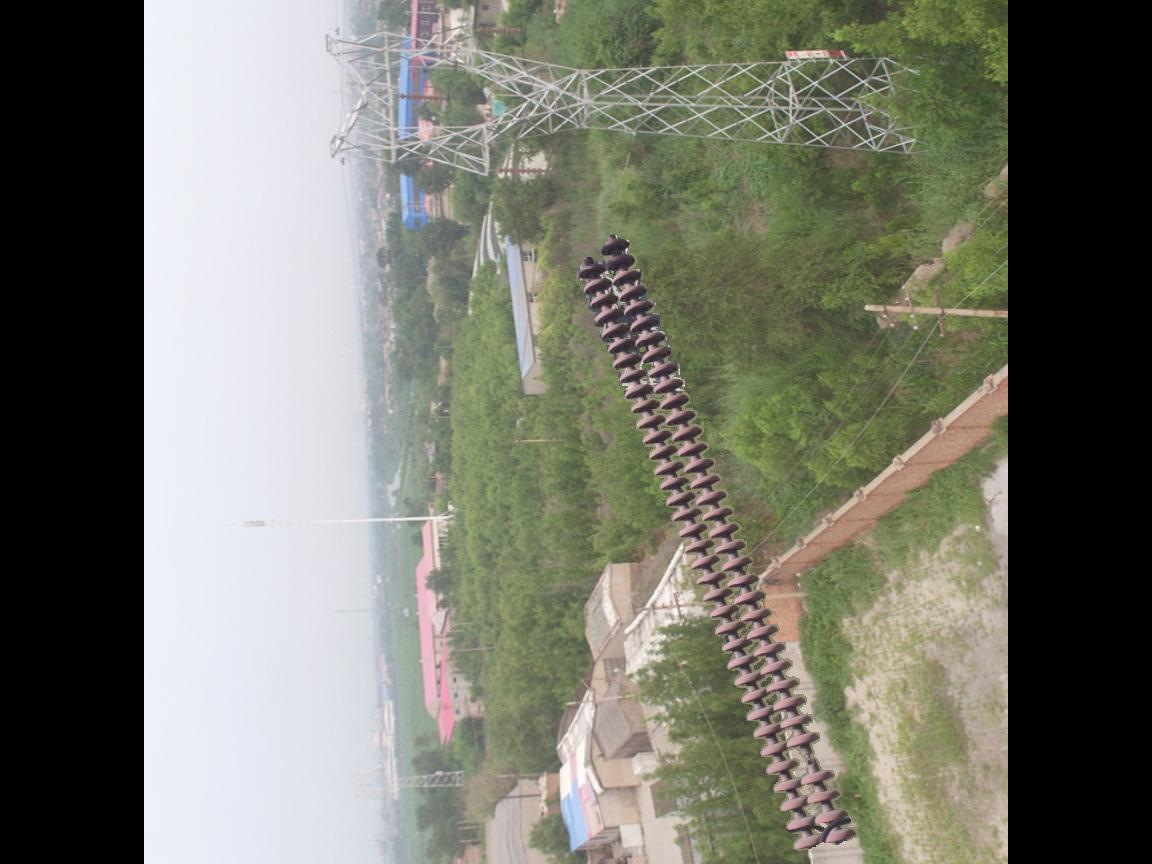insulator: (572, 232, 862, 854)
insulator_stringdrop: (784, 726, 838, 789)
